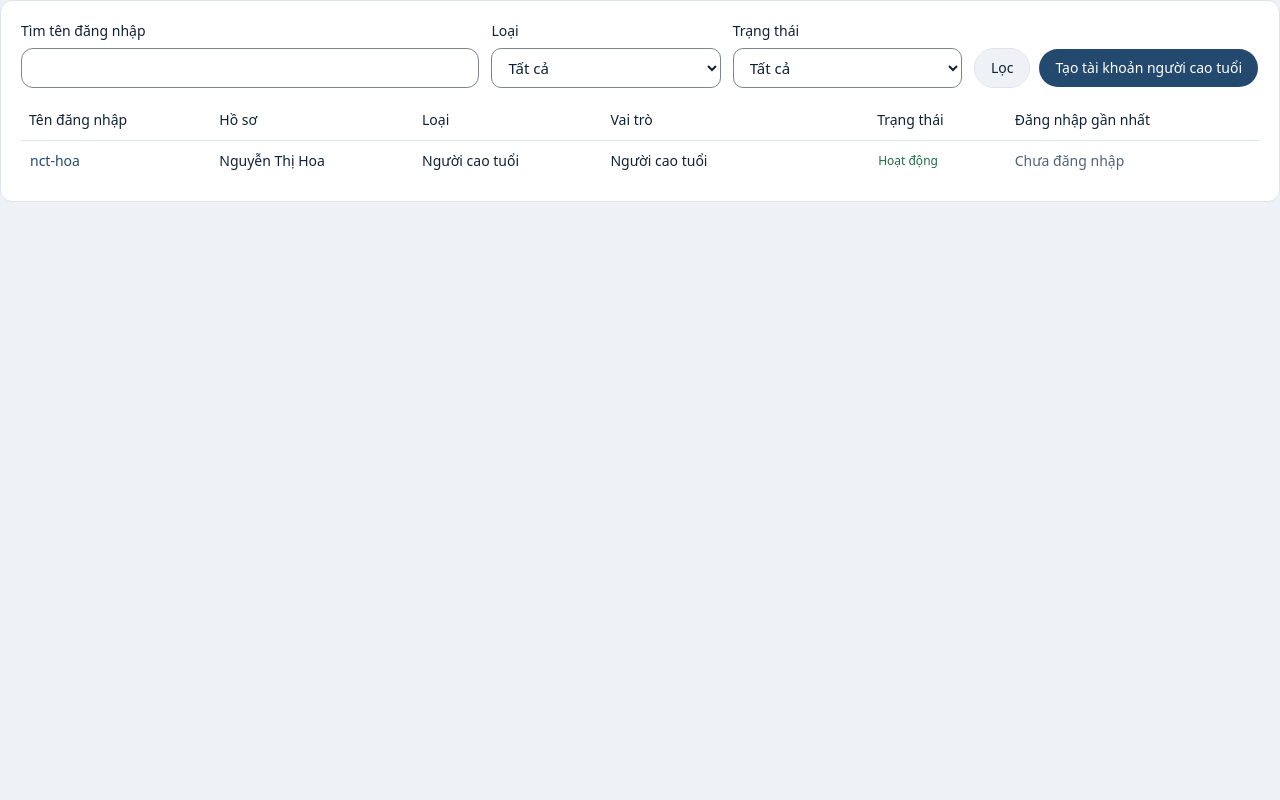
Tài khoản người cao tuổi › A_16_deNghiKhoaTheoLoiNguoiThan_lapYeuCauPheDuyet
Step 1. Click the button "nct-hoa" → (55, 161), box [29, 150, 81, 172]
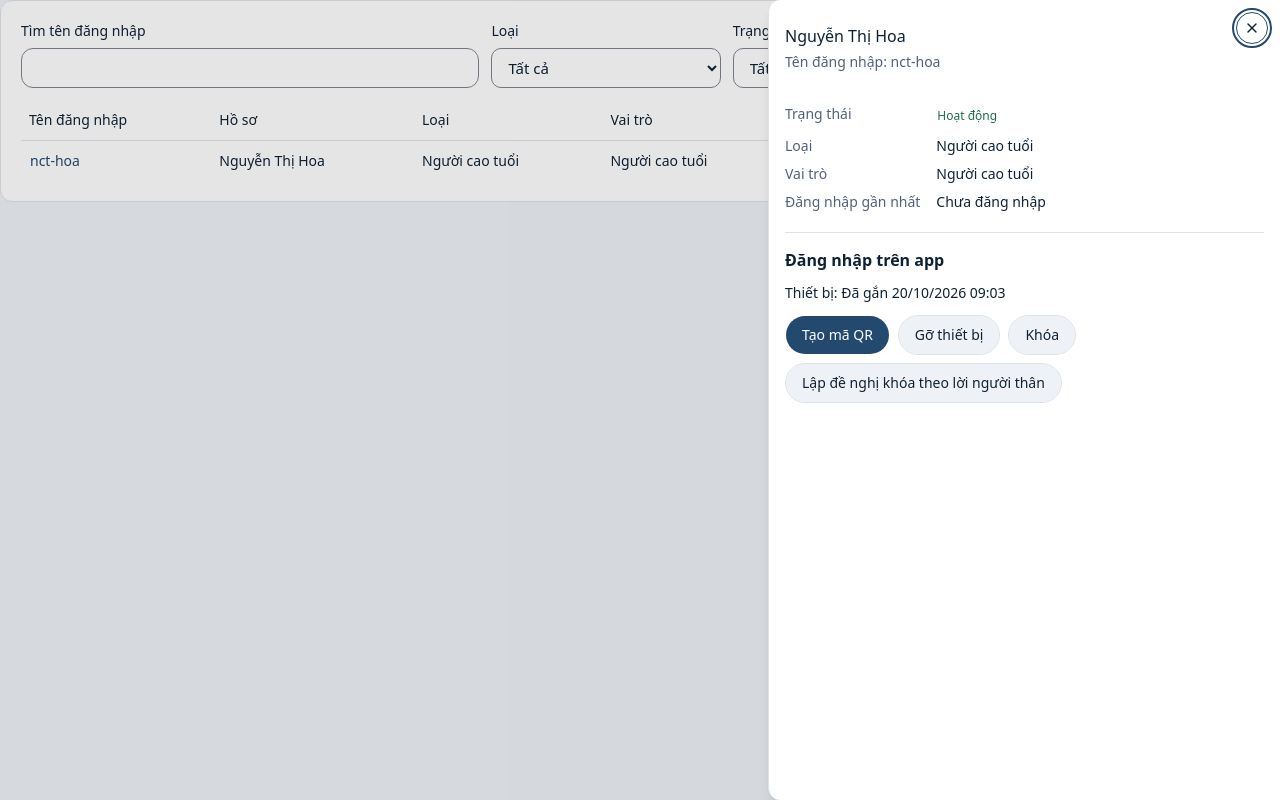
Step 2. Click the button "Lập đề nghị khóa theo lời người thân" → (923, 383), box [785, 363, 1062, 403]
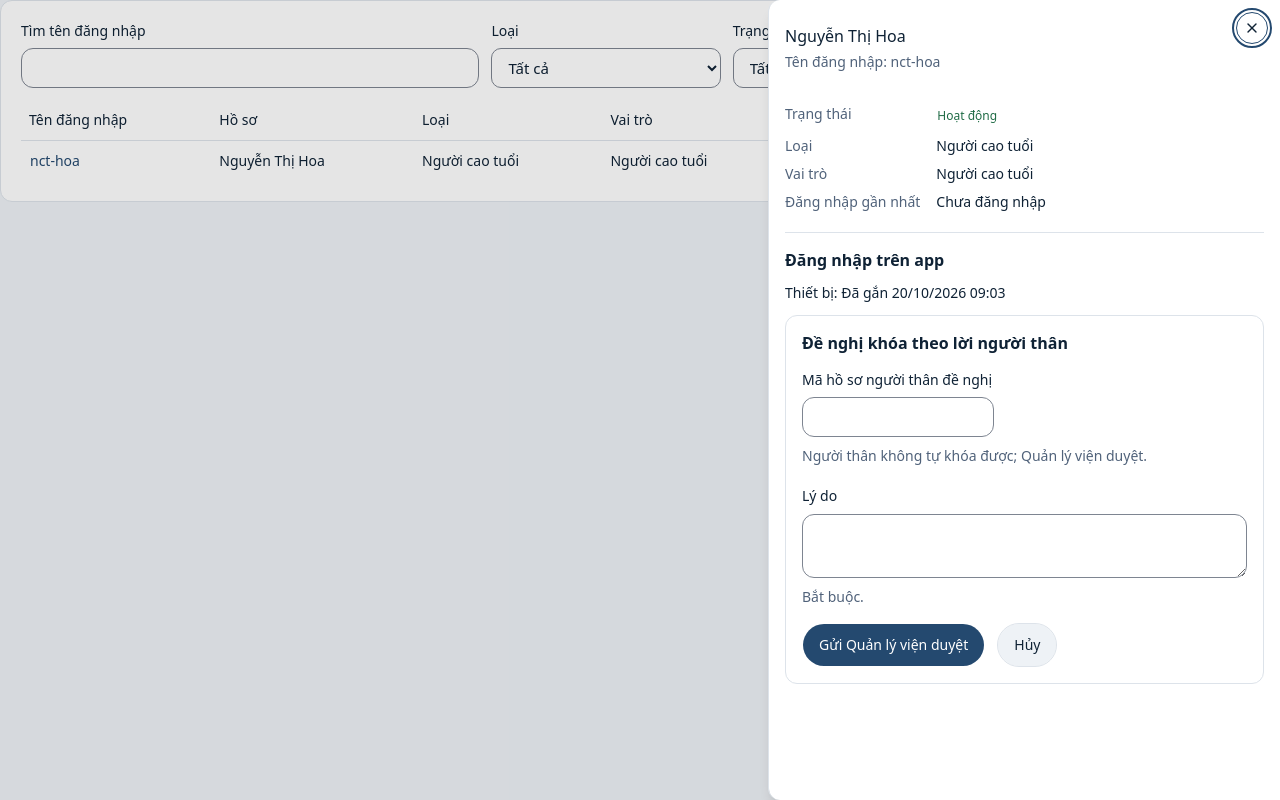
Step 3. Type "55" into the field labelled "Mã hồ sơ người thân đề nghị" → (898, 417), box [802, 397, 994, 437]
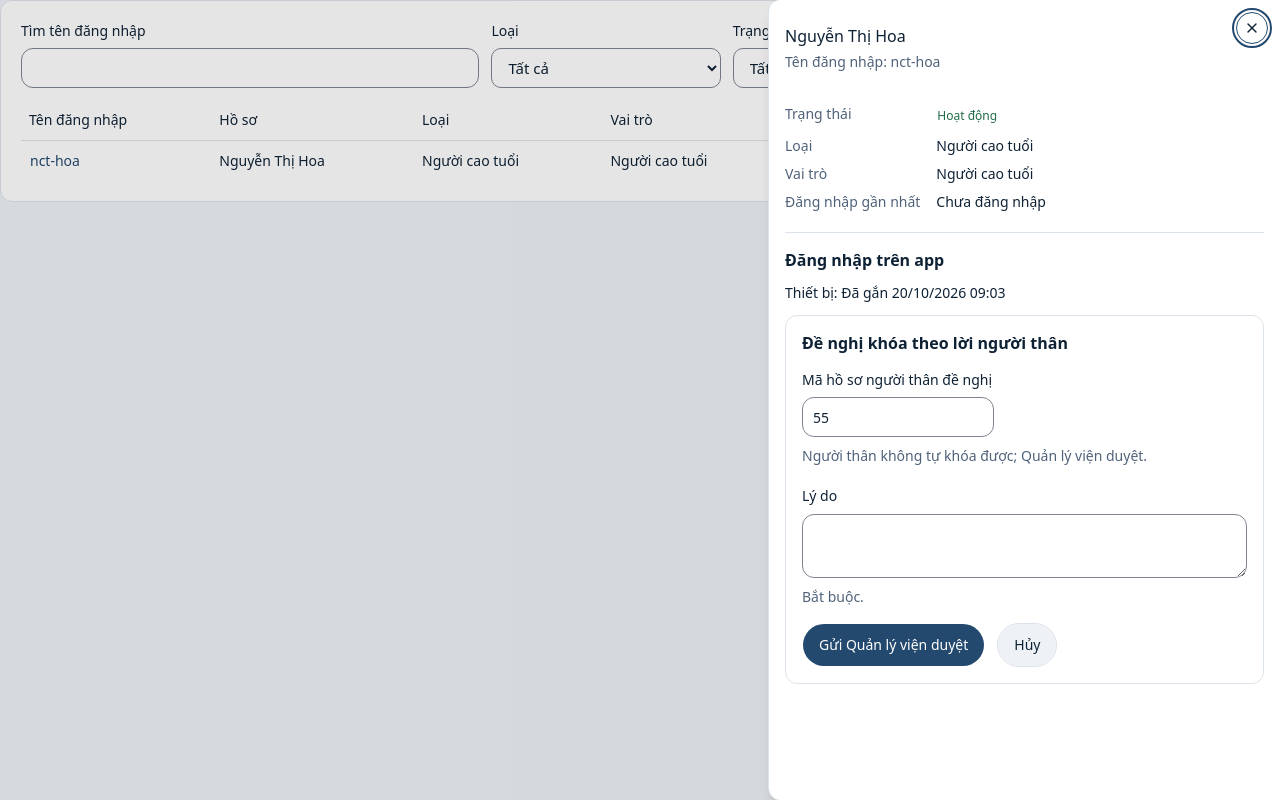
Step 4. Type "Con gái đề nghị khóa" into the text box labelled "Lý do" → (1024, 546), box [802, 514, 1247, 578]
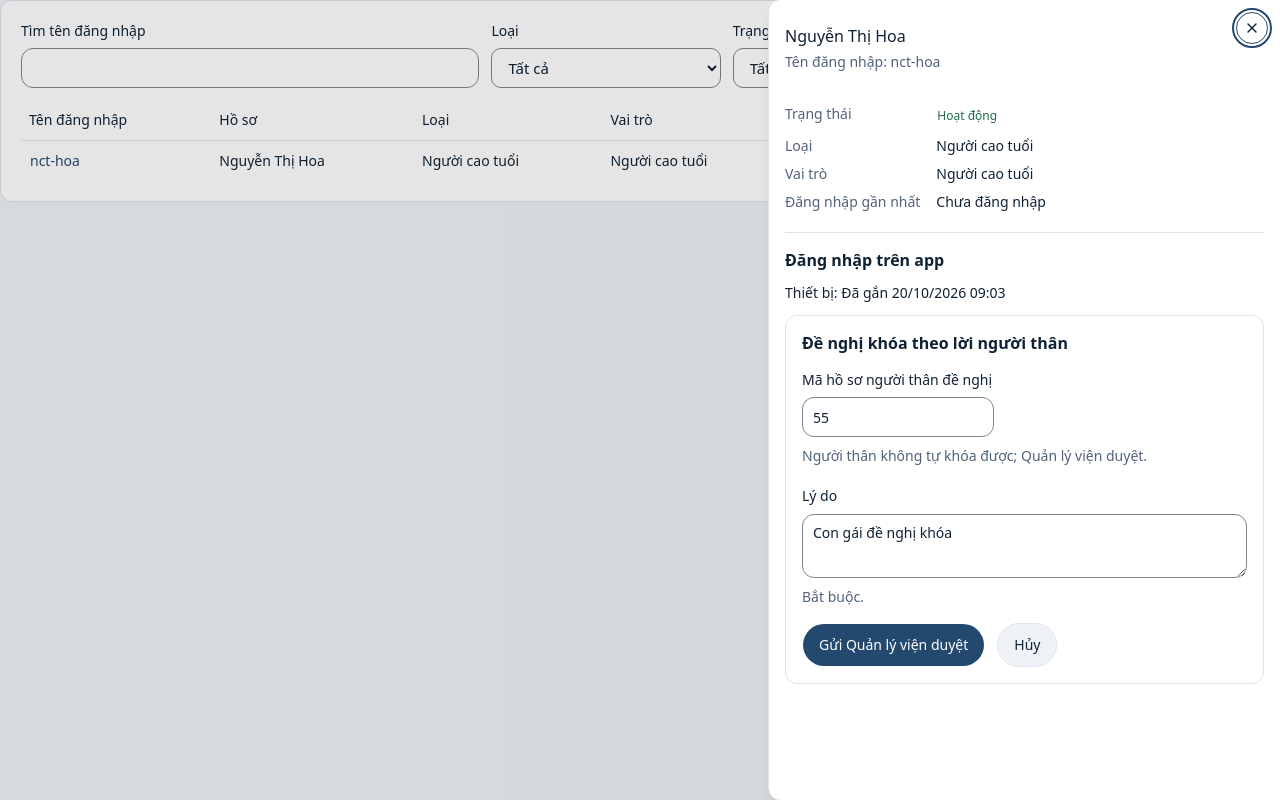
Step 5. Click the button "Gửi Quản lý viện duyệt" → (894, 644), box [802, 622, 985, 666]
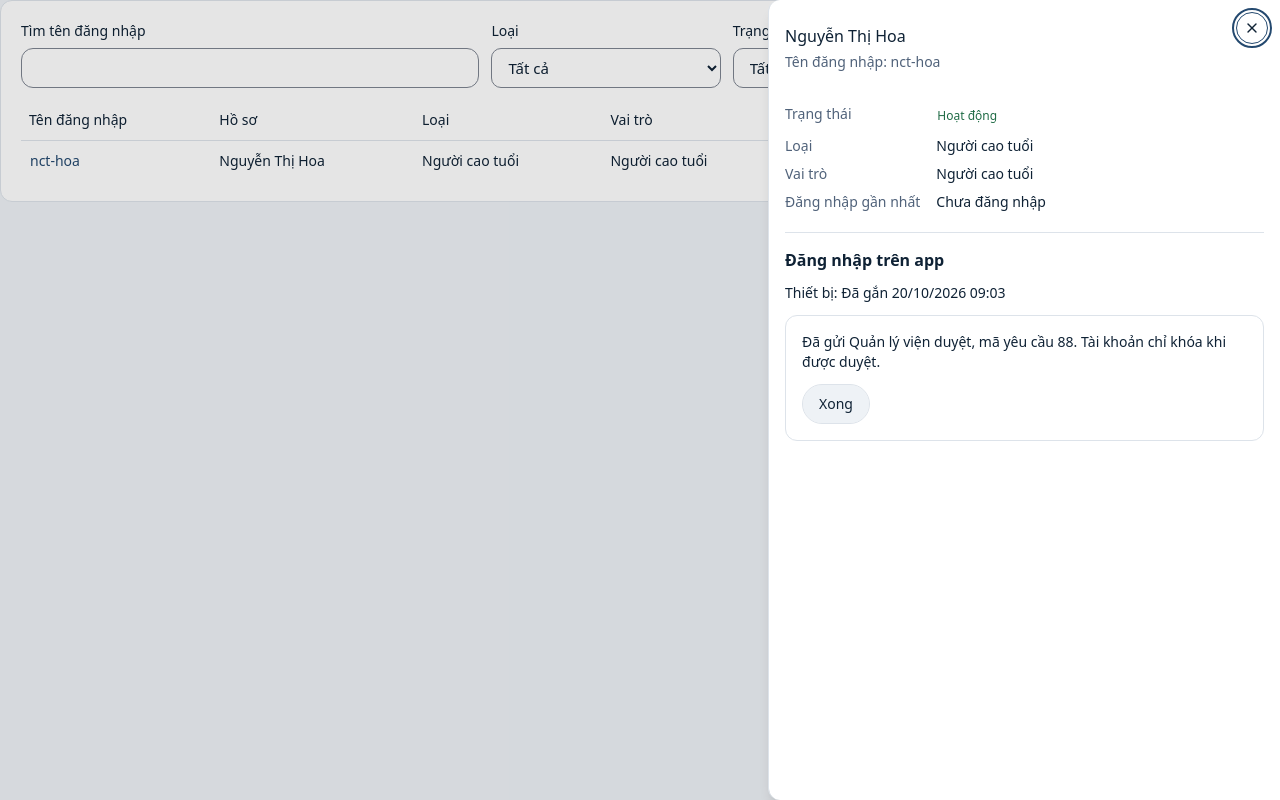
expect the text "Đã gửi Quản lý viện duyệt, mã yêu cầu 88" is shown: met, box [802, 332, 1226, 371]
